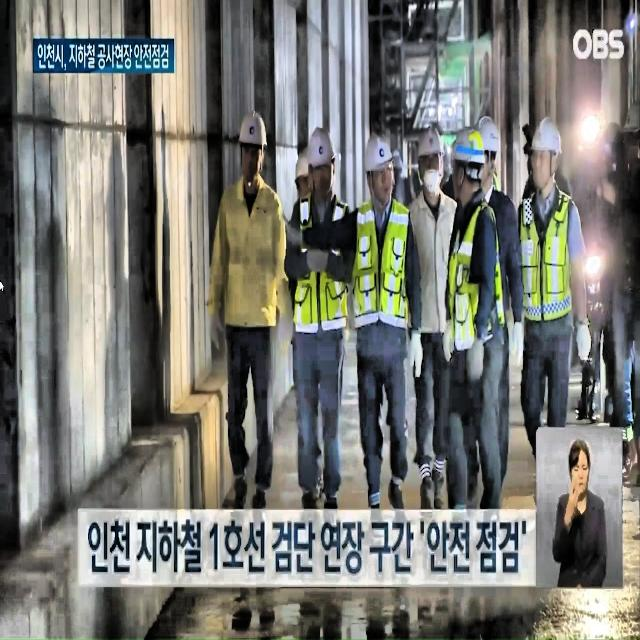safety_helmet: (528, 112, 568, 158), (236, 106, 270, 152), (455, 123, 484, 171), (359, 137, 391, 175), (414, 124, 452, 156), (308, 129, 338, 169)
safety_jacket: (523, 209, 590, 339), (291, 210, 348, 362), (358, 206, 418, 334), (451, 215, 505, 341)
